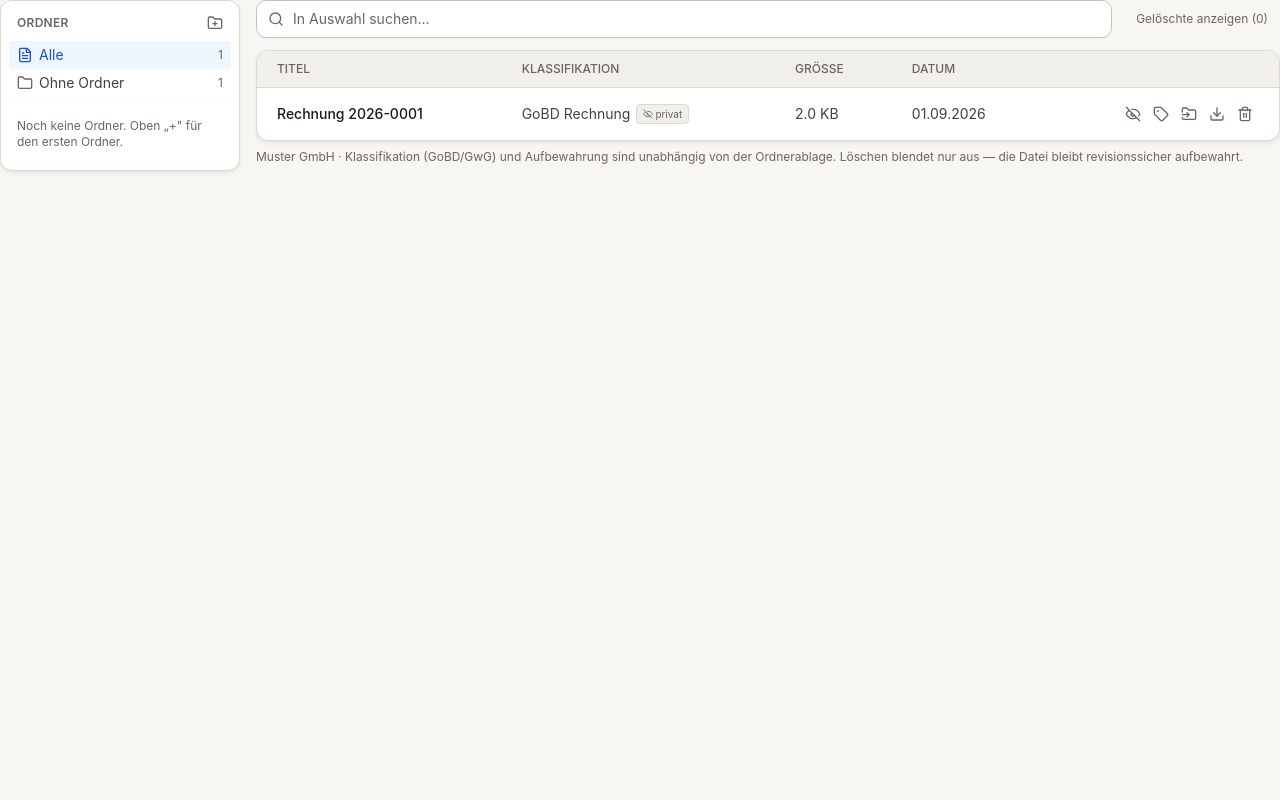
Test case: Explorer: Löschen nur über den gemeinsamen Dialog › Embedded-Variante öffnet denselben Dialog
This screenshot has width=1280, height=800.
Click the button titled "Löschen" at {"x": 1245, "y": 114}, box left=1231, top=100, right=1259, bottom=128
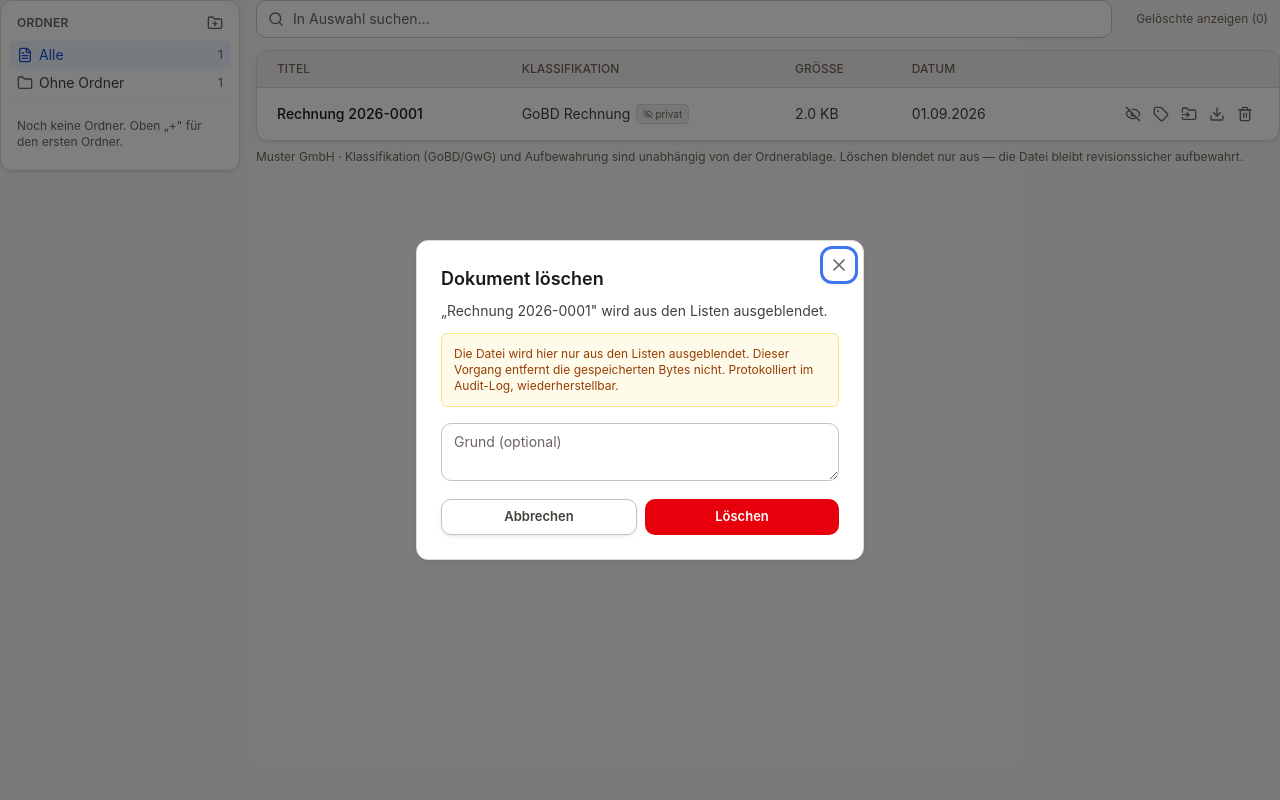
Expected: the dialog is shown, left=416, top=240, right=864, bottom=560
